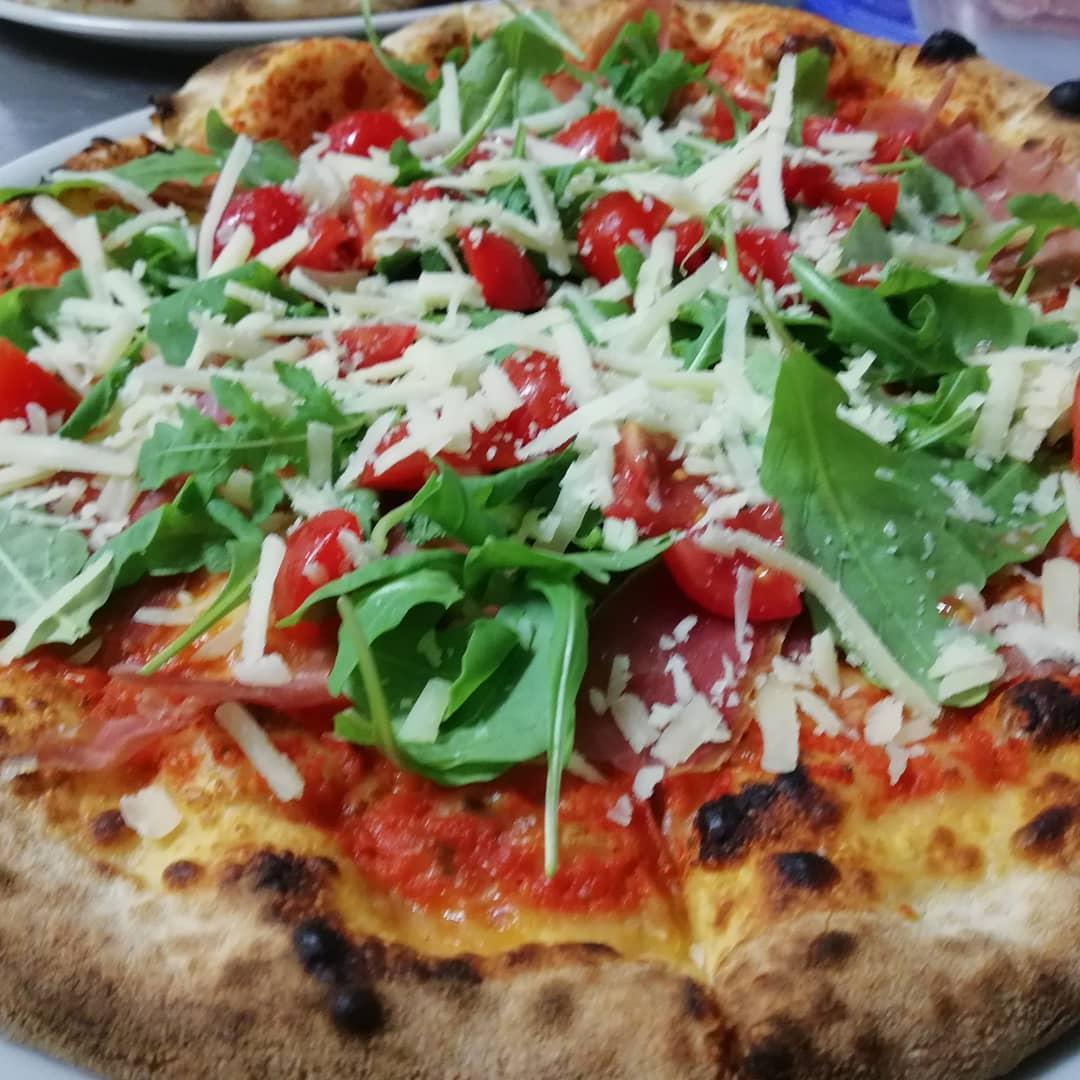Arugula: (744, 158, 1080, 710), (302, 440, 689, 884), (138, 350, 419, 526), (331, 2, 573, 204), (0, 199, 204, 378), (0, 103, 315, 212), (141, 458, 294, 672), (0, 489, 149, 673), (604, 230, 748, 378), (570, 1, 718, 132), (715, 30, 841, 156)
Pizza: (0, 0, 1080, 1080)
Tomatoes: (600, 424, 821, 632), (354, 336, 575, 502), (759, 153, 908, 269), (269, 507, 363, 687), (555, 176, 677, 299), (299, 171, 438, 276), (447, 217, 556, 328), (0, 330, 88, 456), (207, 177, 307, 269), (713, 220, 809, 309), (315, 97, 431, 166), (543, 103, 646, 167), (656, 205, 717, 281), (699, 93, 783, 143)
